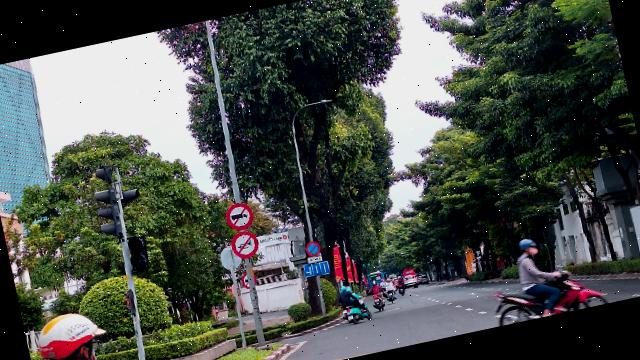cam-bop-coi: (230, 228, 262, 260)
cam-do-xe: (304, 239, 322, 257)
